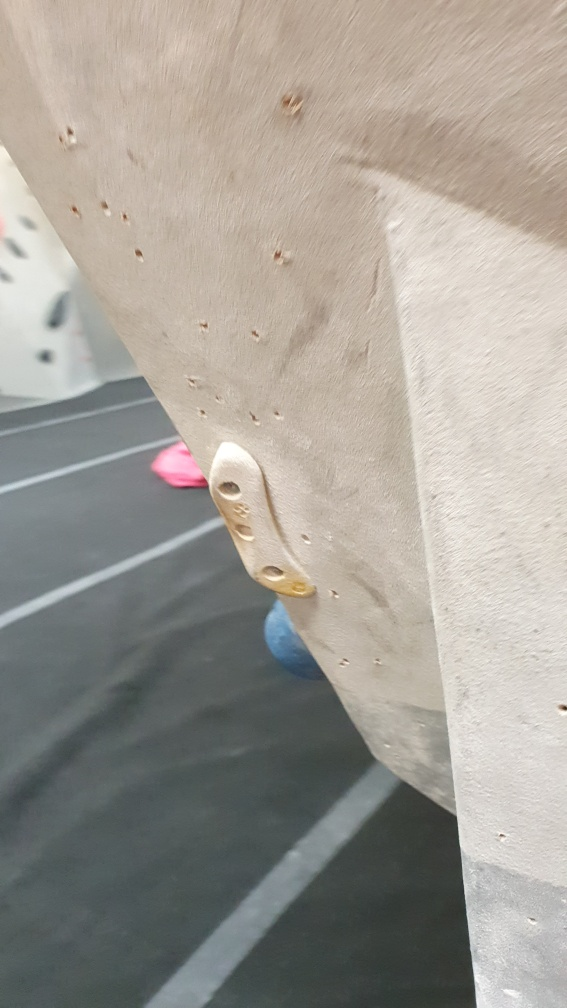Sloper: (260, 596, 328, 686)
